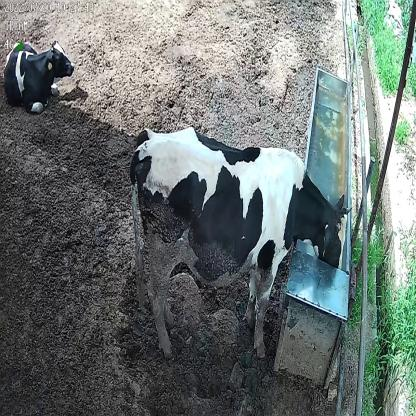cow: (126, 128, 353, 361), (3, 35, 75, 114)
